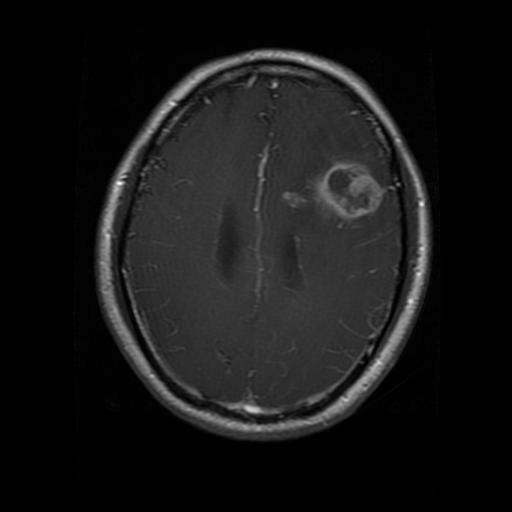Tumour-Glioma: (309, 152, 398, 227)
